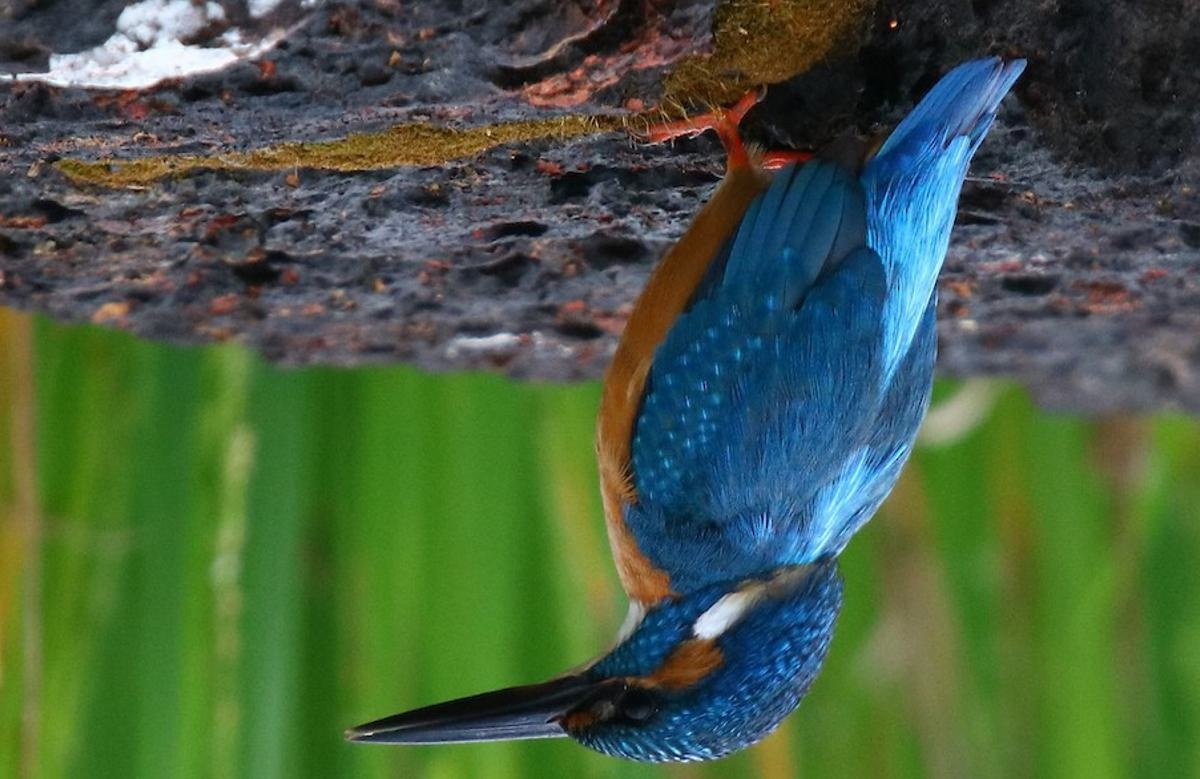kingfisher: (342, 15, 1001, 771)
